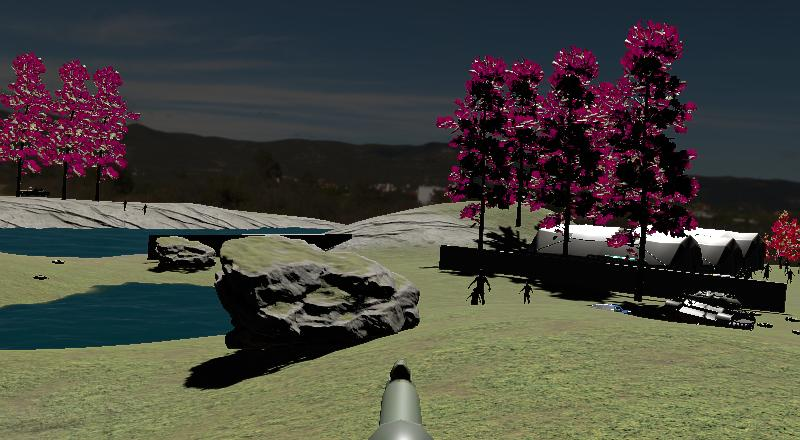Tank: (666, 286, 760, 335)
